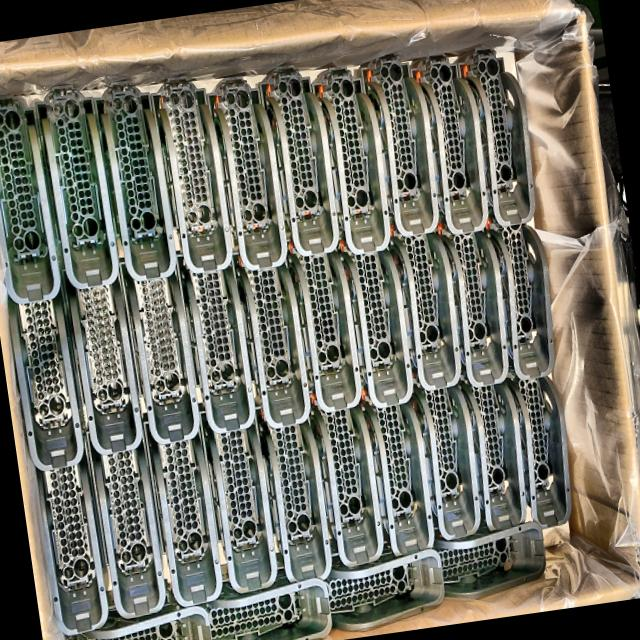P38: (35, 84, 118, 289), (93, 80, 175, 282), (150, 76, 232, 274), (141, 412, 222, 607), (58, 266, 141, 456), (197, 398, 277, 593), (283, 213, 361, 413), (207, 76, 287, 271), (258, 65, 338, 257), (173, 247, 255, 434), (6, 273, 83, 471), (84, 432, 165, 620), (334, 214, 412, 409), (116, 262, 199, 445), (310, 66, 390, 255), (252, 394, 331, 582), (408, 52, 488, 235), (34, 436, 107, 636), (230, 245, 309, 429), (431, 203, 508, 388), (360, 54, 438, 236), (306, 384, 383, 568), (457, 46, 534, 227), (357, 379, 433, 558), (385, 211, 460, 391), (407, 355, 479, 541), (481, 199, 554, 380), (0, 96, 60, 305), (456, 358, 526, 533), (195, 552, 331, 640), (504, 354, 571, 530), (323, 536, 444, 633), (431, 509, 545, 602), (63, 589, 212, 640)
